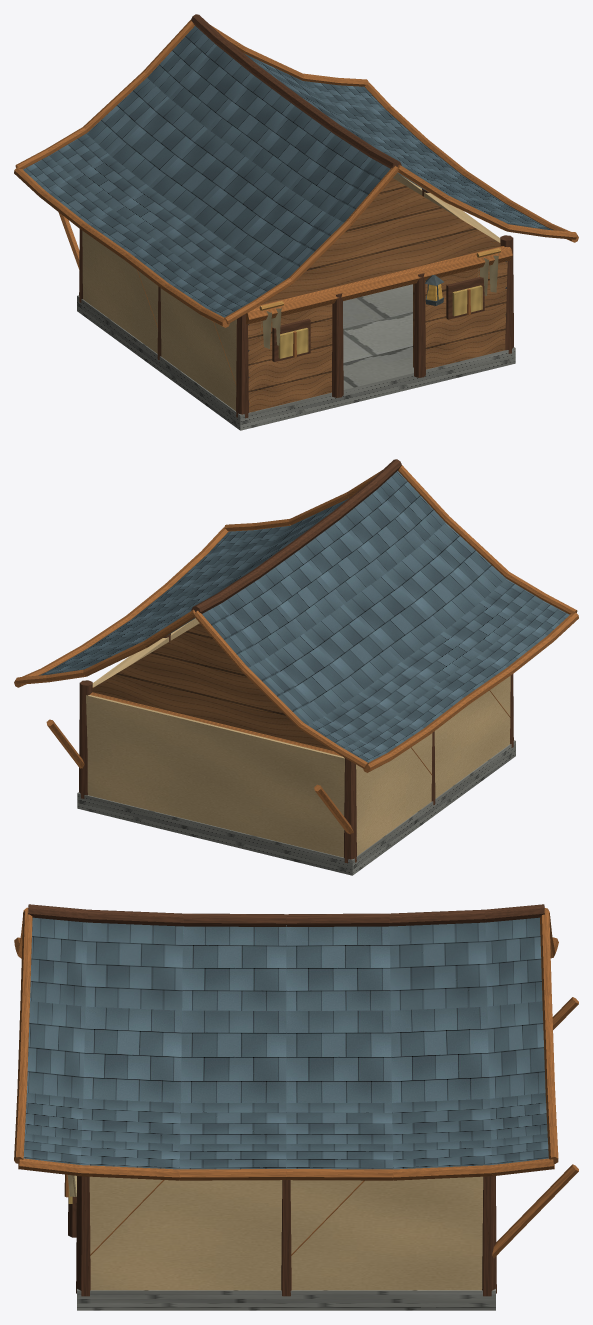
File: house_a.glb
3 views of the same model, one above another, from view 1: azimuth 30°, elevation 25°; view 2: azimuth 150°, elevation 25°; view 3: azimuth 270°, elevation 25° (orthographic). The views are drawn at different scales.
Parts seen in each view (by area): view 1: house_a_F4; view 2: house_a_F4; view 3: house_a_F4.
Part boxes in pixels (box(x1,y1,x2,y2)): house_a_F4: box(14, 14, 578, 430); house_a_F4: box(14, 459, 578, 875); house_a_F4: box(14, 904, 578, 1310).
Bounding box in the file's own units: 9.19 × 6.15 × 9.84.
1 material, 1 textured.
